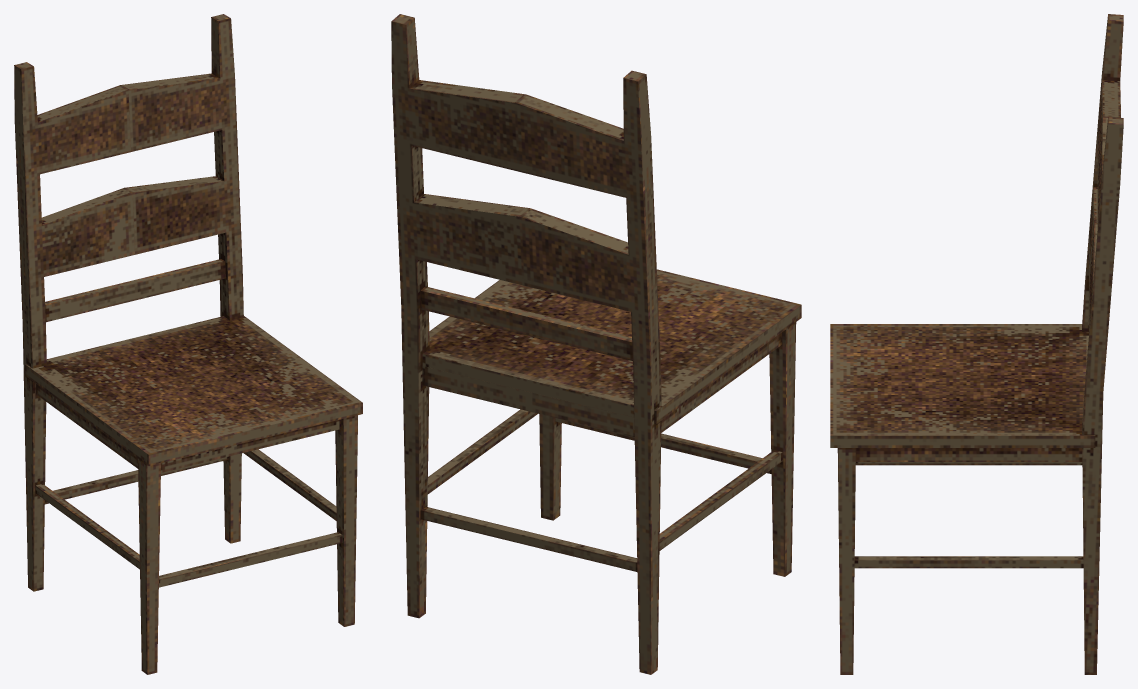
The model's file is Chair00.fbx.
3 renders of one model, left to right at view 1: azimuth 30°, elevation 25°; view 2: azimuth 150°, elevation 25°; view 3: azimuth 270°, elevation 25°, orthographic. The views are drawn at different scales.
Visible parts, largest first — view 1: Chair00; view 2: Chair00; view 3: Chair00.
Boxes of the visible parts, bbox=[...] form: Chair00: bbox=[14, 14, 362, 674]; Chair00: bbox=[391, 14, 801, 674]; Chair00: bbox=[830, 14, 1123, 674].
Size of the model in its own units: 48.13 by 43.46 by 99.84.
